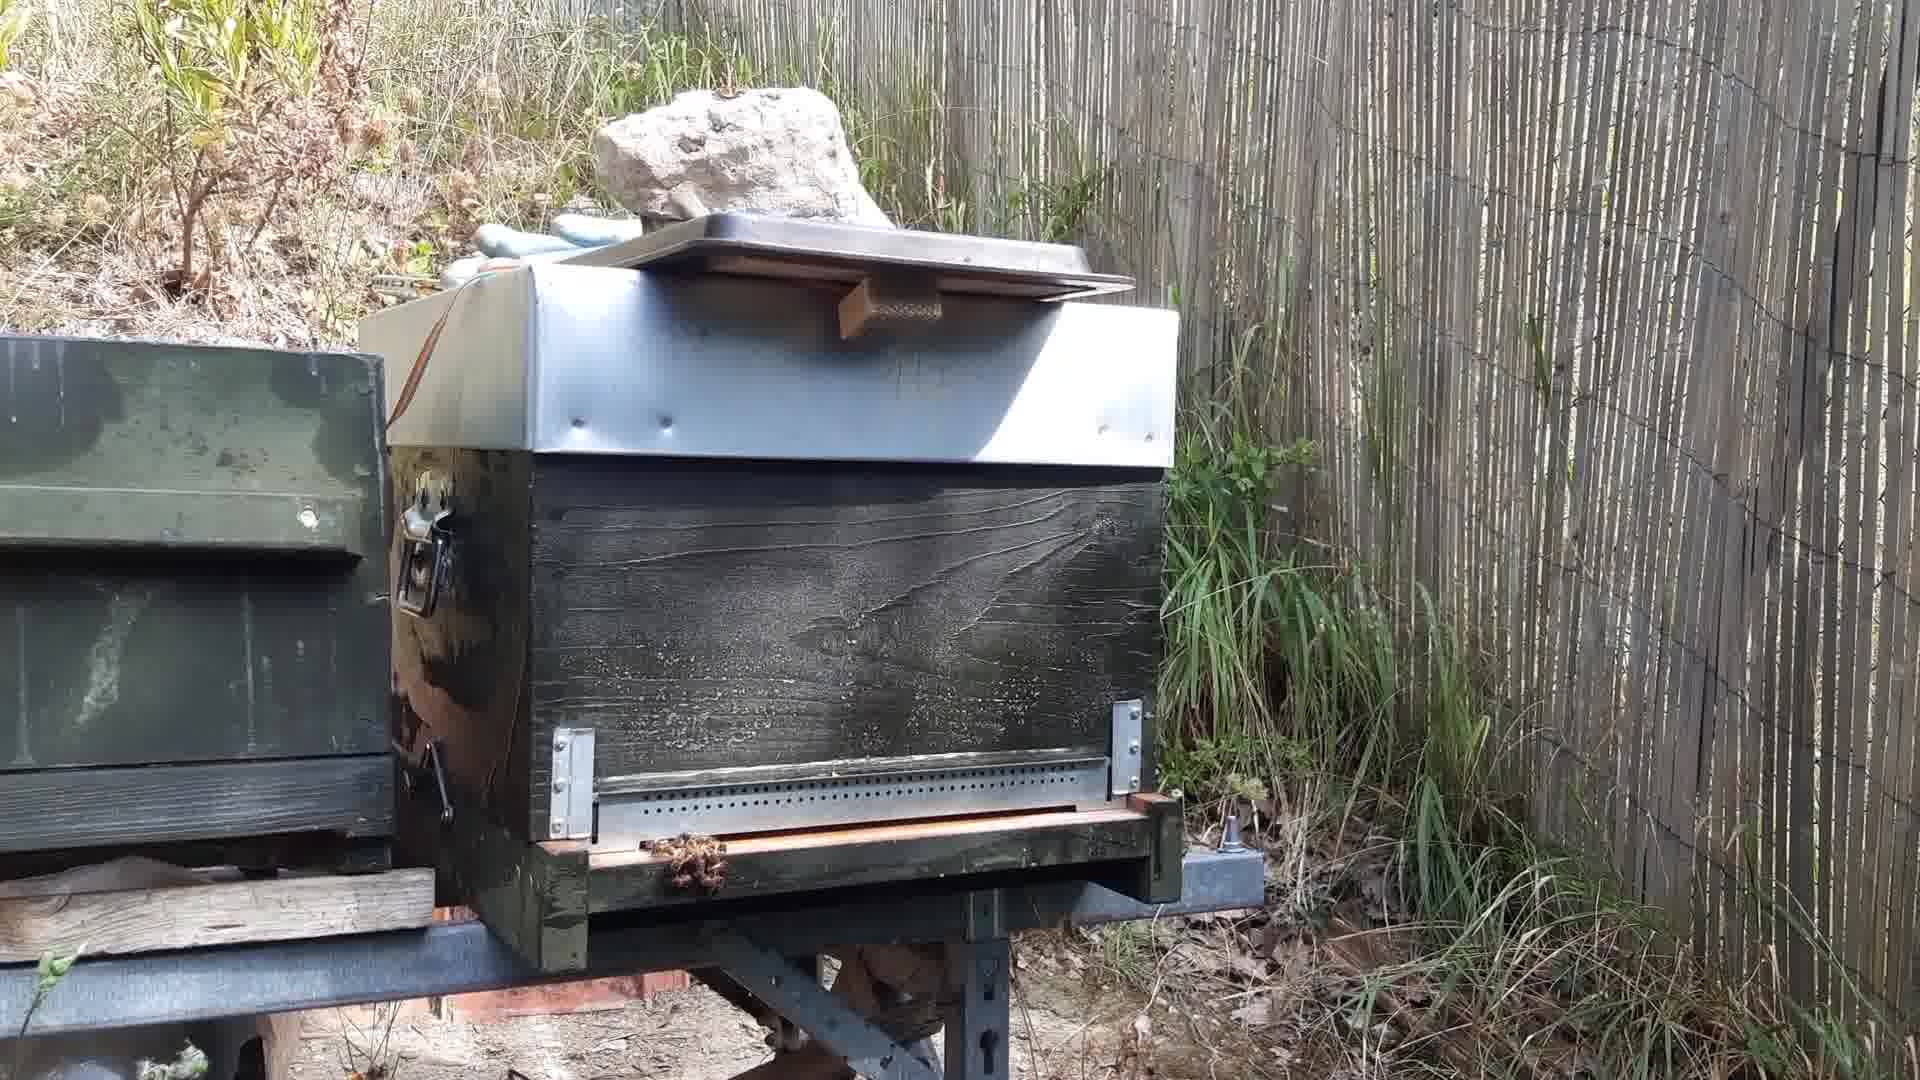bee: (655, 829, 728, 891)
